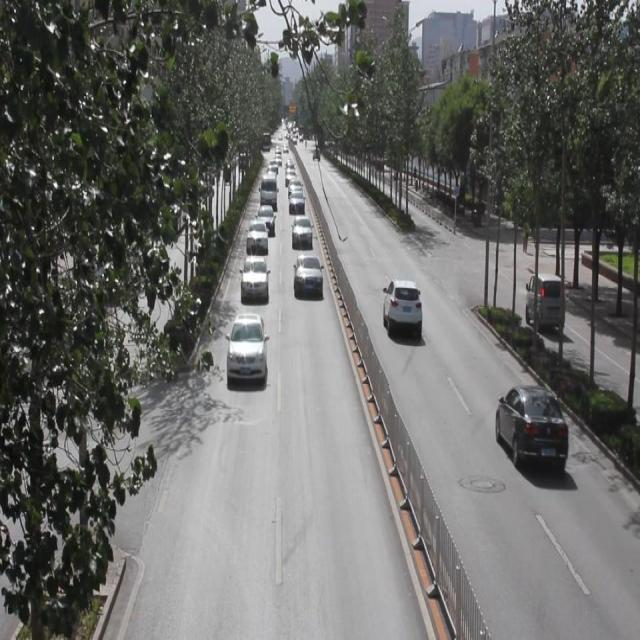car: (494, 382, 566, 472), (226, 310, 267, 383), (381, 276, 420, 337), (241, 253, 269, 303), (294, 253, 322, 296), (246, 217, 268, 251), (290, 214, 312, 248), (255, 203, 275, 236)
truck: (522, 267, 562, 333)
